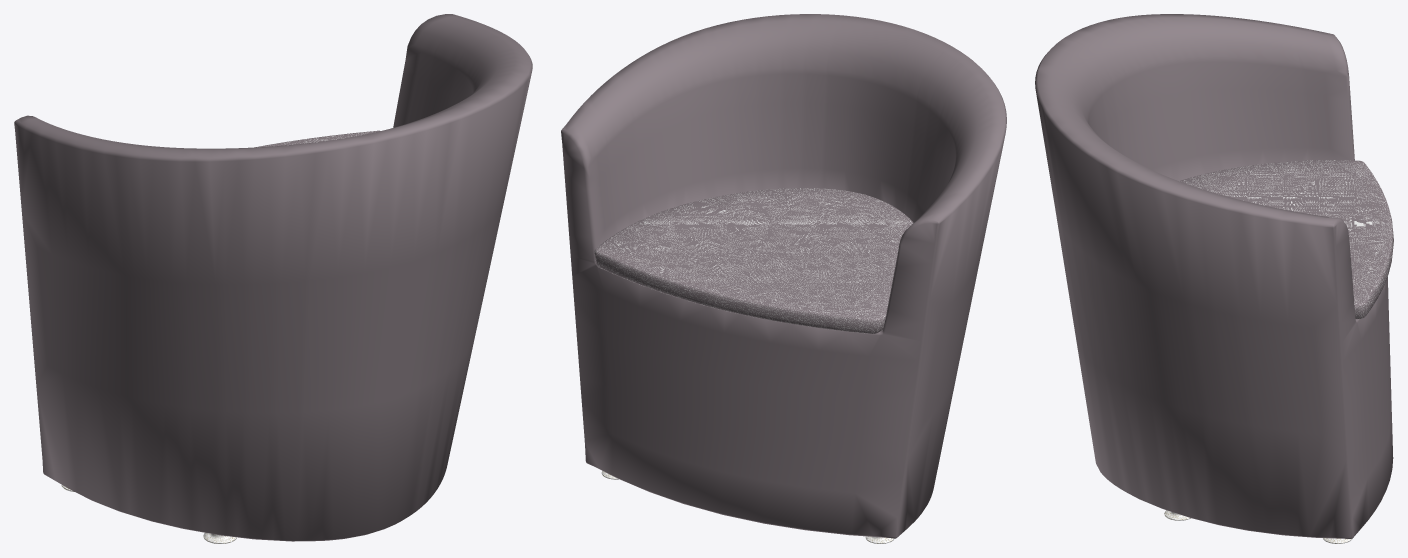
3 renders of one model, left to right at view 1: azimuth 30°, elevation 25°; view 2: azimuth 150°, elevation 25°; view 3: azimuth 270°, elevation 25°, orthographic. The views are drawn at different scales.
Visible parts, largest first — view 1: mesh6_mesh6-geometry; view 2: mesh6_mesh6-geometry, mesh1_mesh1-geometry; view 3: mesh6_mesh6-geometry, mesh1_mesh1-geometry.
Boxes of the visible parts, box(x1,y1,x2,y2) form: mesh6_mesh6-geometry: box(14, 14, 532, 541); mesh6_mesh6-geometry: box(561, 14, 1006, 538); mesh1_mesh1-geometry: box(594, 188, 913, 333); mesh6_mesh6-geometry: box(1035, 14, 1393, 538); mesh1_mesh1-geometry: box(1179, 160, 1393, 319).
Size of the model in its own units: 0.6348 by 0.594 by 0.4942.
